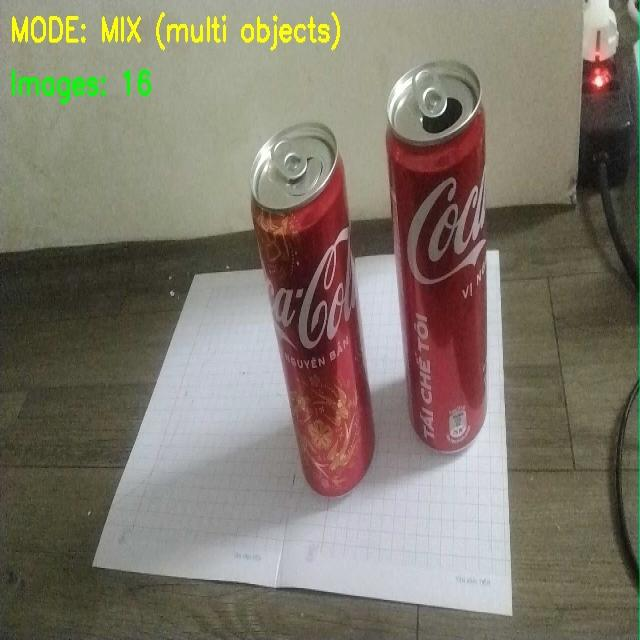Coca: (224, 130, 377, 505)
Coca_open: (382, 52, 528, 476)
